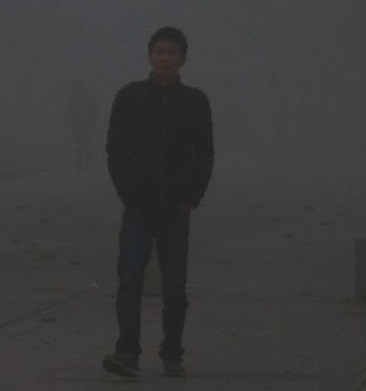person: (102, 25, 217, 381)
